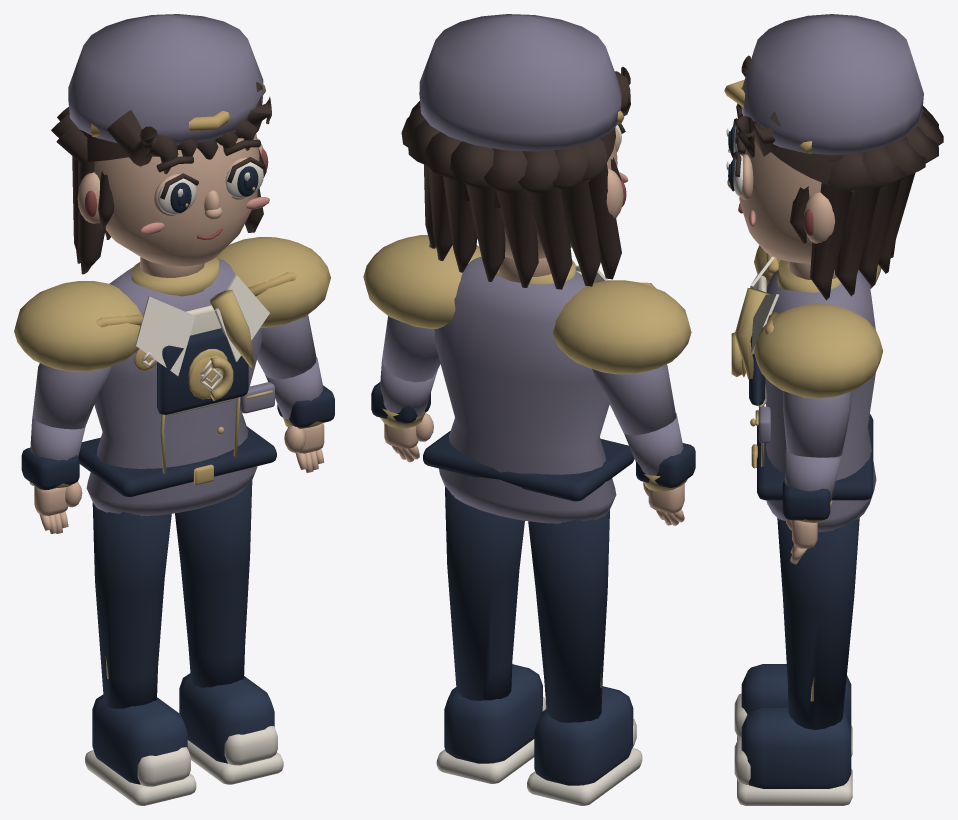
File: npc_bosshighland_lieutenant_2.glb
3 views of the same model, side by side, from view 1: azimuth 30°, elevation 25°; view 2: azimuth 150°, elevation 25°; view 3: azimuth 270°, elevation 25° (orthographic). The views are drawn at different scales.
Visible parts, largest first — view 1: figure.081; view 2: figure.081; view 3: figure.081.
Boxes of the visible parts, <box> form: figure.081: <box>14,14,334,805</box>; figure.081: <box>363,14,695,805</box>; figure.081: <box>724,14,943,805</box>.
Bounding box in the file's own units: 0.739 × 1.72 × 0.4582.
